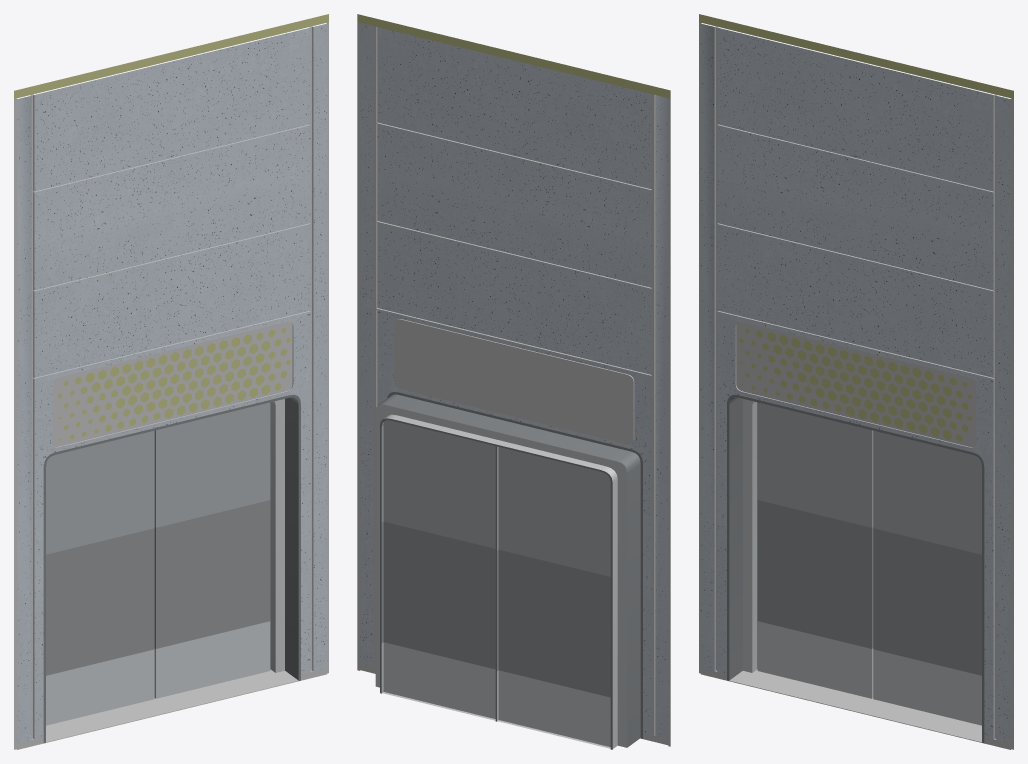
The picture shows the model from 3 angles, left to right: view 1: azimuth 30°, elevation 25°; view 2: azimuth 150°, elevation 25°; view 3: azimuth 330°, elevation 25°; orthographic projection.
Visible parts, largest first — view 1: M_W_EV_001_a_4x8; view 2: M_W_EV_001_a_4x8; view 3: M_W_EV_001_a_4x8.
Boxes of the visible parts, box(x1,y1,x2,y2) form: M_W_EV_001_a_4x8: box(14, 14, 328, 749); M_W_EV_001_a_4x8: box(357, 14, 670, 749); M_W_EV_001_a_4x8: box(699, 14, 1013, 749).
Bounding box in the file's own units: 4 × 8 × 0.4328.
